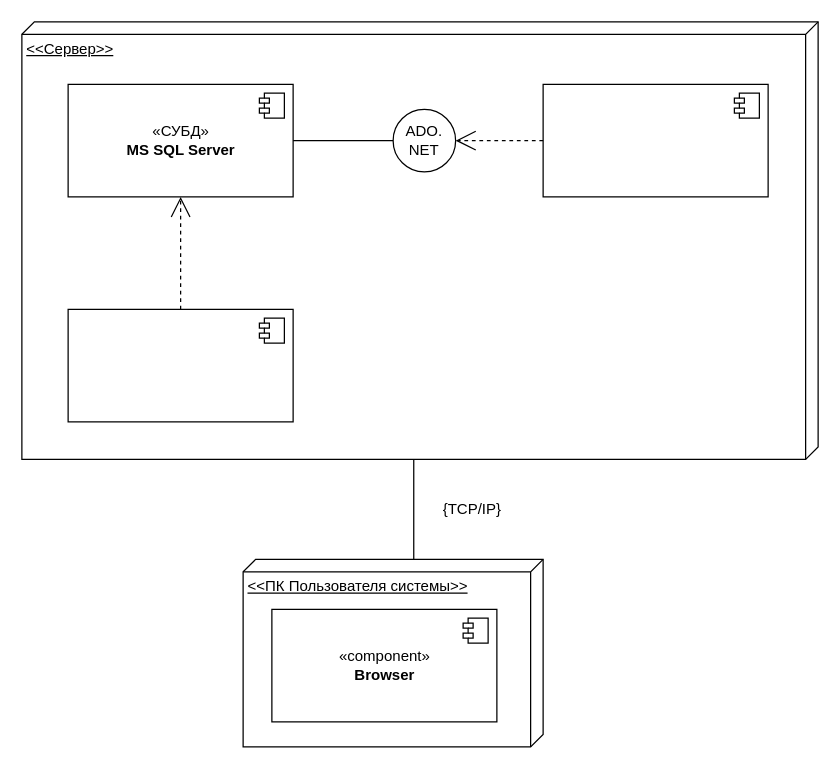
The diagram is 840 pixels wide and 769 high, and some of its shapes have lost their labels. The centre of each missing label's shape, as x and y in pixels:
«Database» SocialWeb: (180,365)
«executable» file.sln: (655,140)
